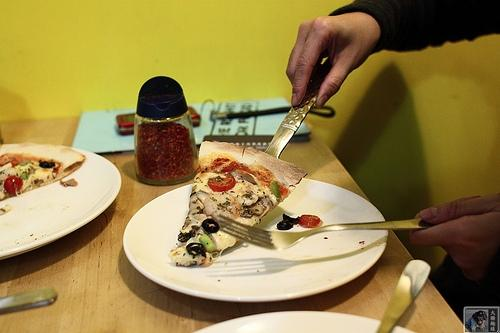hot pepper: (137, 121, 194, 181)
tomato: (208, 174, 236, 192), (3, 176, 24, 194), (299, 214, 320, 227)
